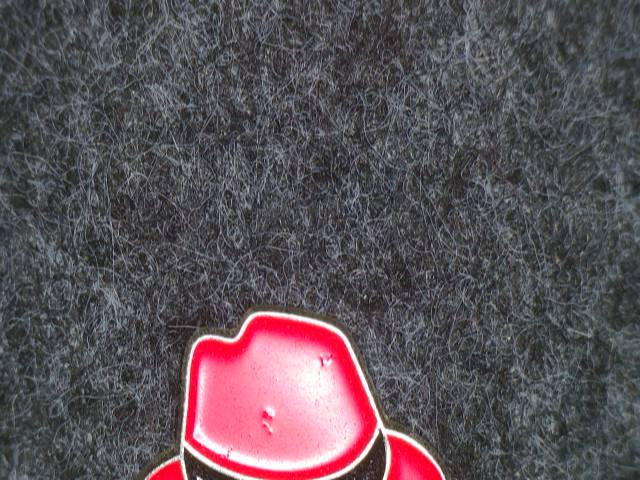Red-Hat: (97, 281, 490, 480)
